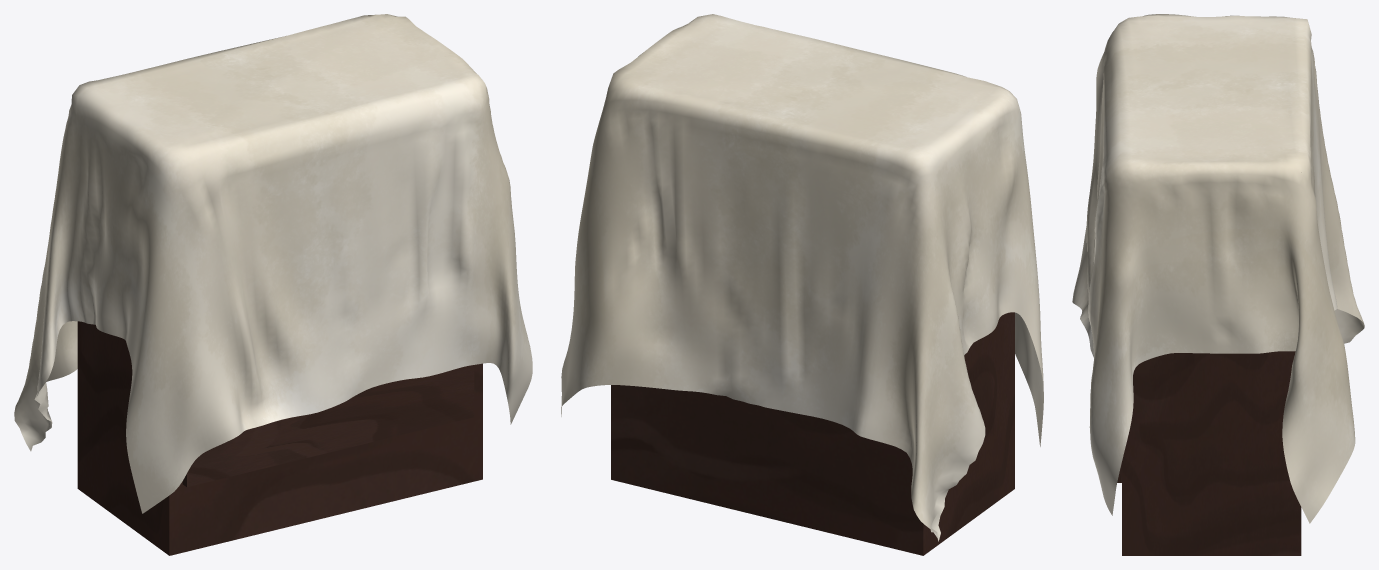
File: örtülü 1 - Copy.fbx
The picture shows the model from 3 angles, left to right: view 1: azimuth 30°, elevation 25°; view 2: azimuth 150°, elevation 25°; view 3: azimuth 270°, elevation 25°; orthographic projection. The views are drawn at different scales.
Parts seen in each view (by area): view 1: Grid.008, Cube.108; view 2: Grid.008, Cube.108; view 3: Grid.008, Cube.108.
Boxes of the visible parts, <box> form: Grid.008: <box>14,14,532,513</box>; Cube.108: <box>77,321,482,555</box>; Grid.008: <box>561,14,1043,541</box>; Cube.108: <box>611,312,1014,555</box>; Grid.008: <box>1072,14,1364,523</box>; Cube.108: <box>1117,351,1301,555</box>.
Size of the model in its own units: 258 by 239 by 161.
2 materials, 2 textured.
